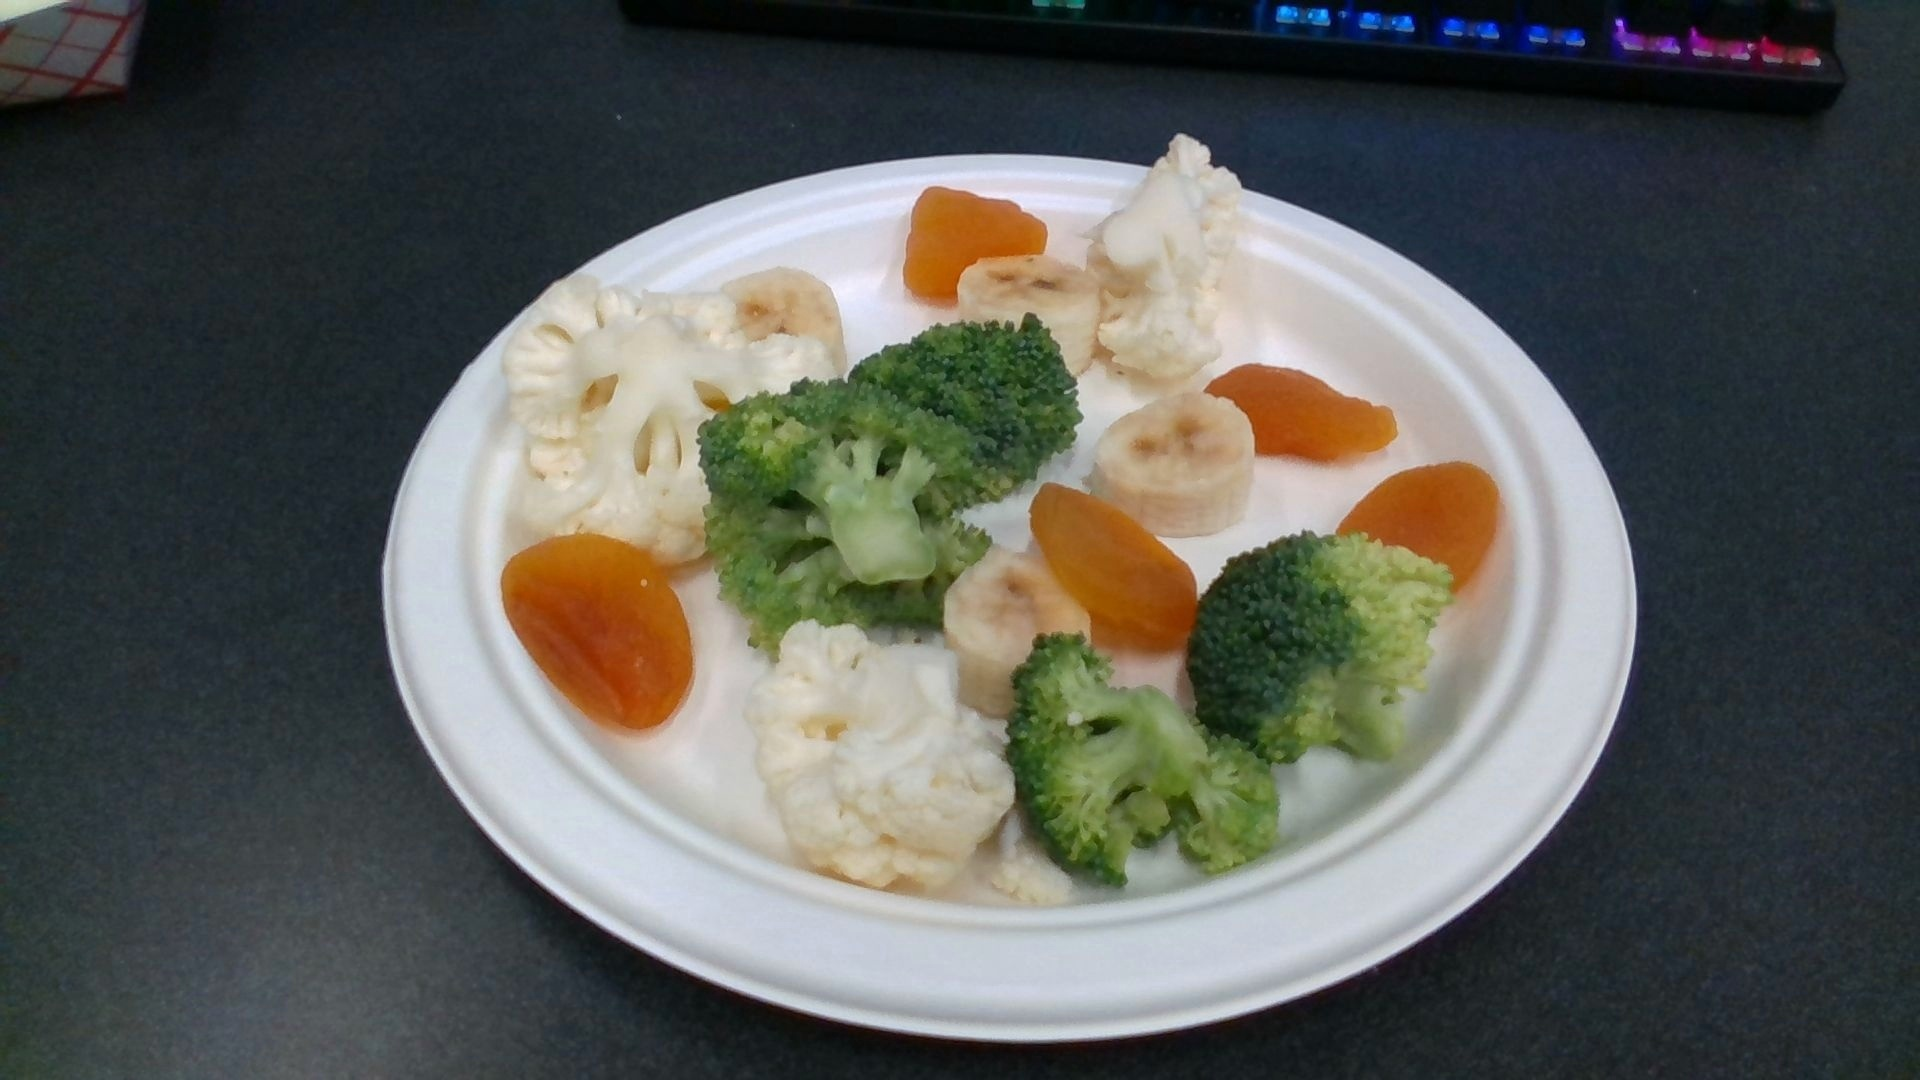apricot: (504, 533, 694, 731), (1030, 480, 1197, 647), (1342, 465, 1501, 582), (1207, 363, 1399, 458), (905, 183, 1047, 306)
banana: (944, 555, 1089, 711), (1091, 393, 1254, 516), (957, 253, 1100, 373), (715, 270, 844, 365)
broccoli: (698, 381, 989, 659), (1185, 531, 1451, 765), (1009, 636, 1207, 890), (849, 324, 1083, 485)
cauliflower: (505, 272, 843, 560), (749, 620, 1017, 890), (1092, 133, 1247, 381)
